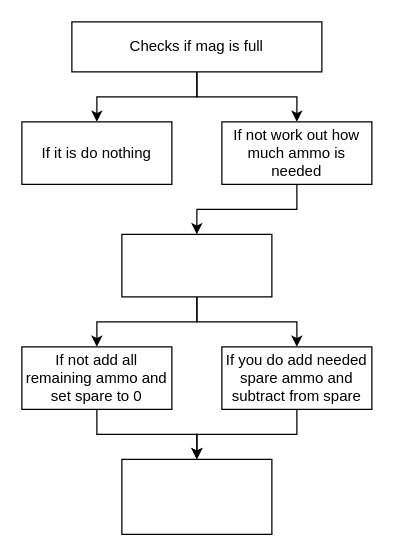
This 394x556 diagram has some shape labels left out. Each missing label, with the centre of its shape:
Check if you have enough spare ammo to fill the mag: (x=196, y=265)
Reload is completed: (x=196, y=496)
